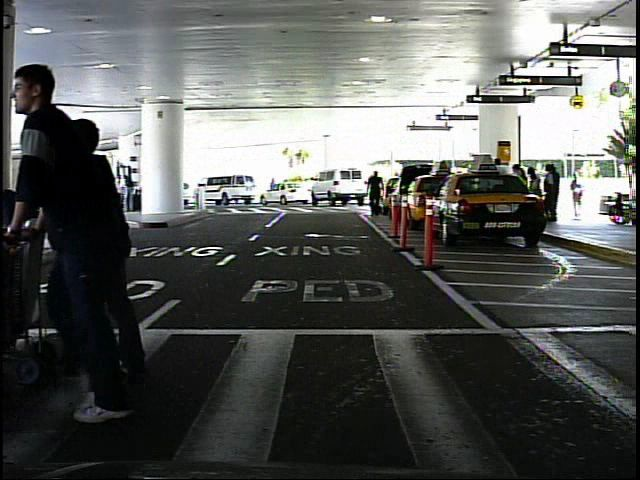person: (21, 51, 154, 430), (365, 168, 387, 220), (571, 172, 590, 218), (108, 174, 125, 212)
